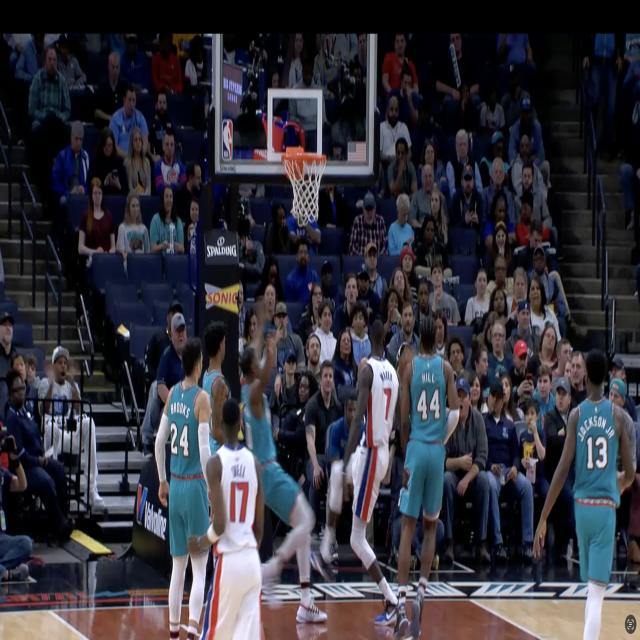no foul: (158, 326, 264, 640), (202, 398, 272, 640)
